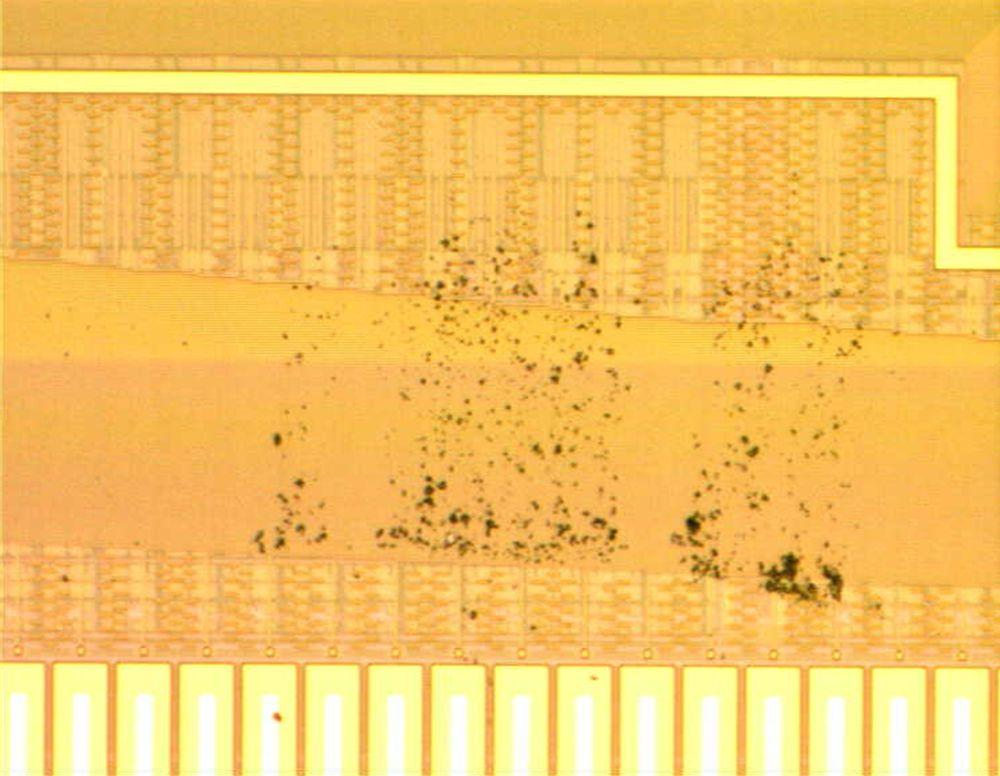PO CONTAMINATION: (247, 178, 889, 623)
